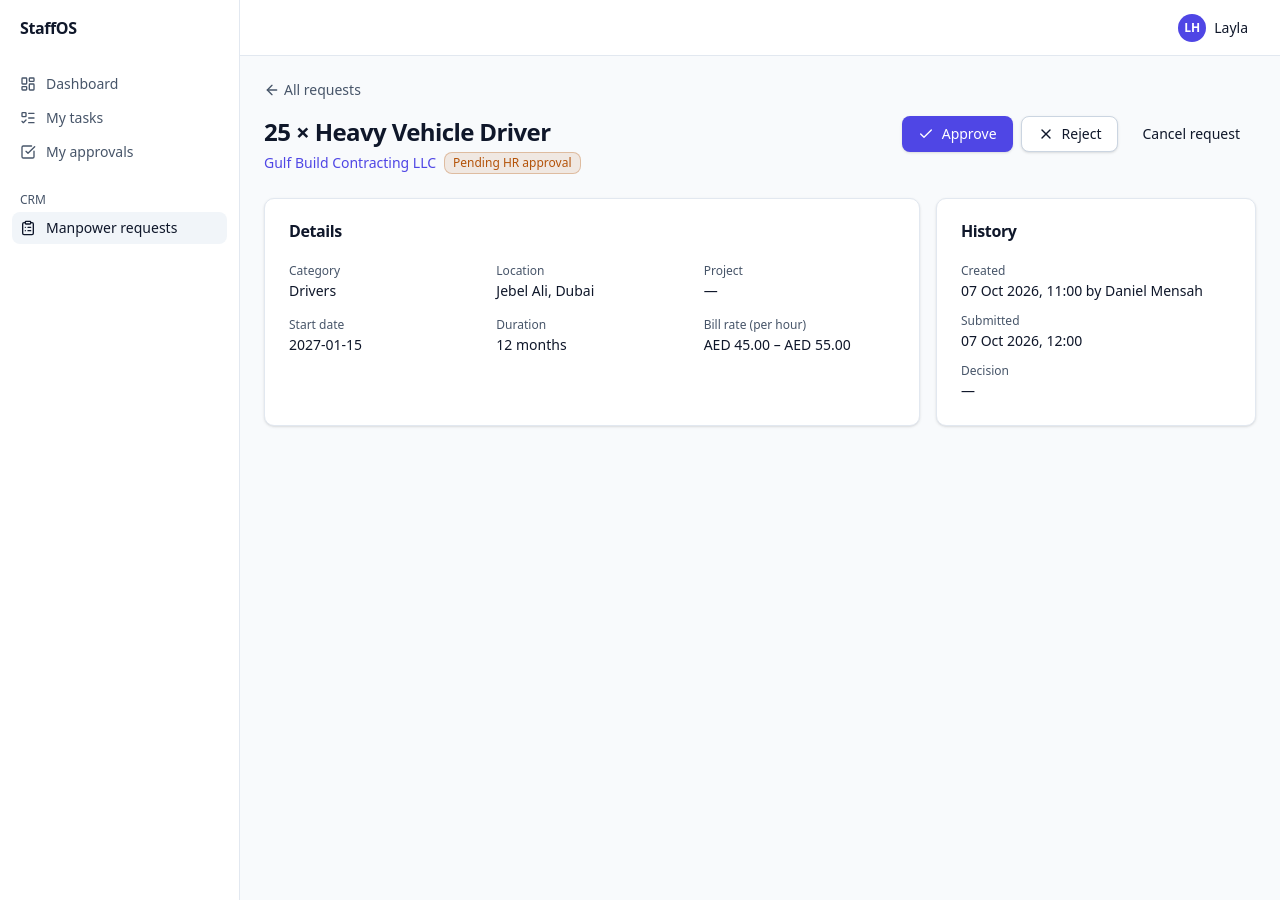
Test: manpower request detail › shows a clear message when someone else changed the request (409 STALE_VERSION)
Click the button "Approve".
click(957, 134)  # box [902,116,1013,152]
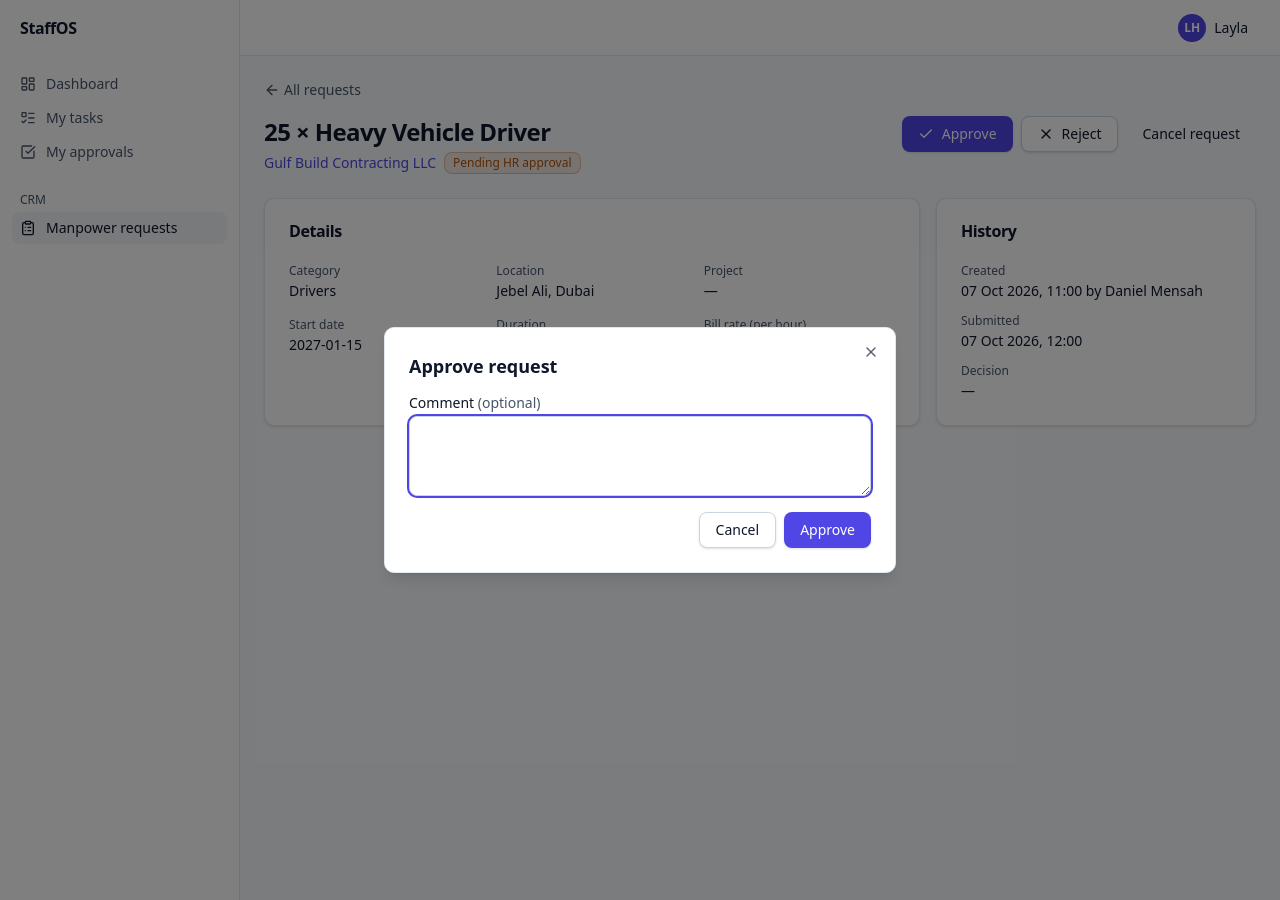
Click the button "Approve".
click(828, 530)  # box [784,512,871,548]
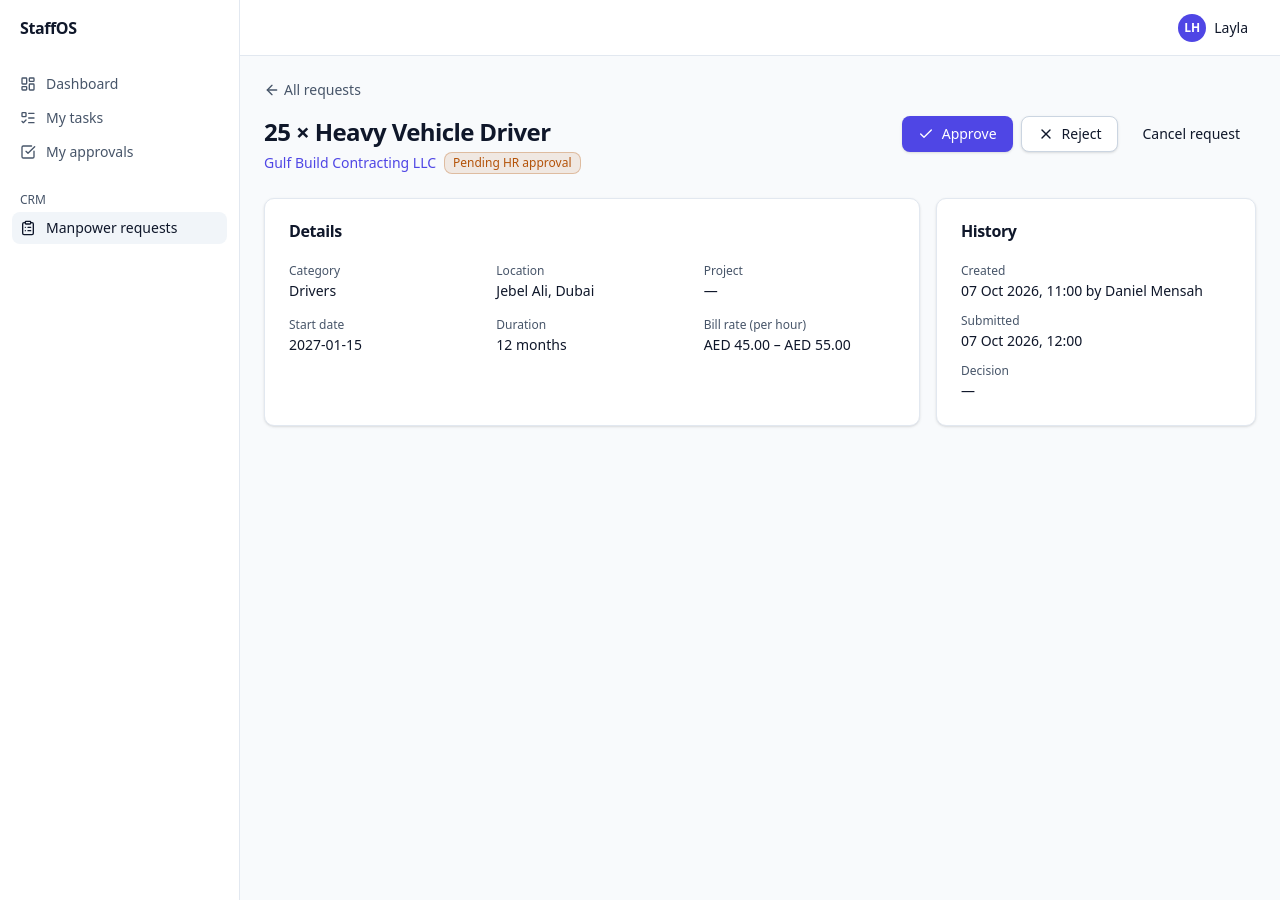
Expected: the dialog is gone
